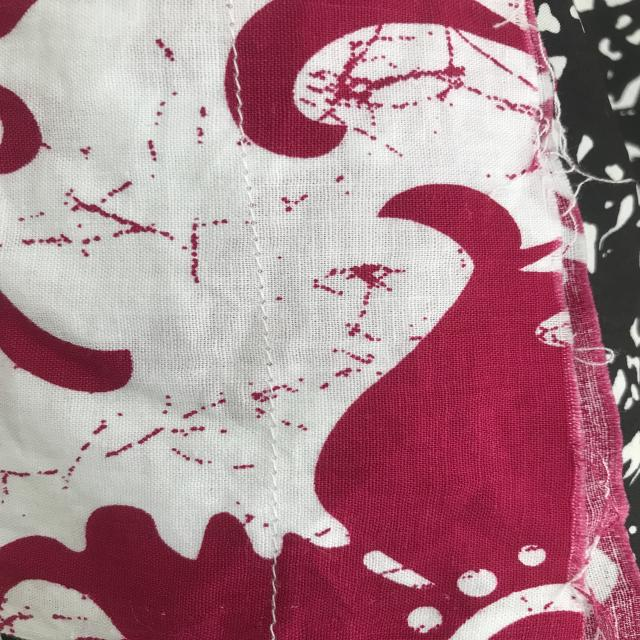good: (233, 157, 296, 390), (220, 47, 258, 125), (264, 423, 292, 525)
